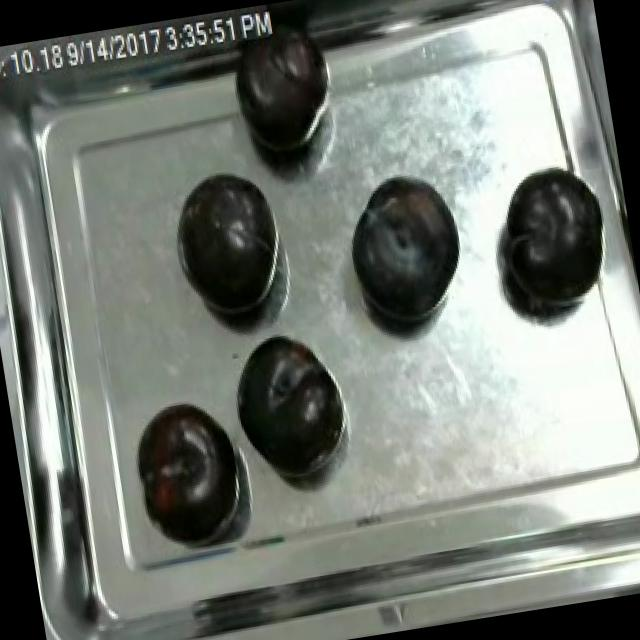Fruit: (332, 164, 478, 342), (481, 156, 622, 327), (220, 320, 354, 486), (164, 162, 293, 331), (125, 390, 249, 553), (222, 21, 342, 169)
